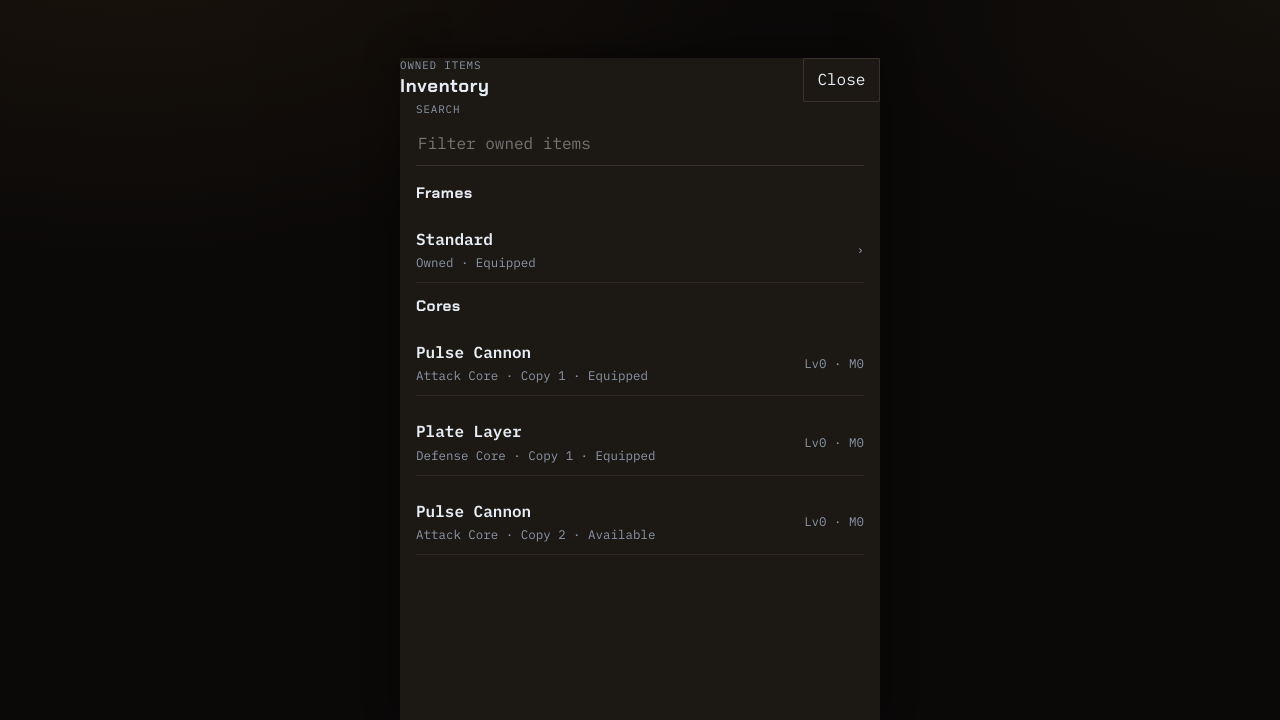
Test: Loadout and Inventory navigation › uses one overlay layer for Inventory inspection and restores the parent screen
What coordinates should you click on to do the following:
click the button "Pulse Cannon Attack Core · Copy 2 · Available Lv0 · M0"
I would click on:
 (474, 511)
Its box is [416,488,864,555].
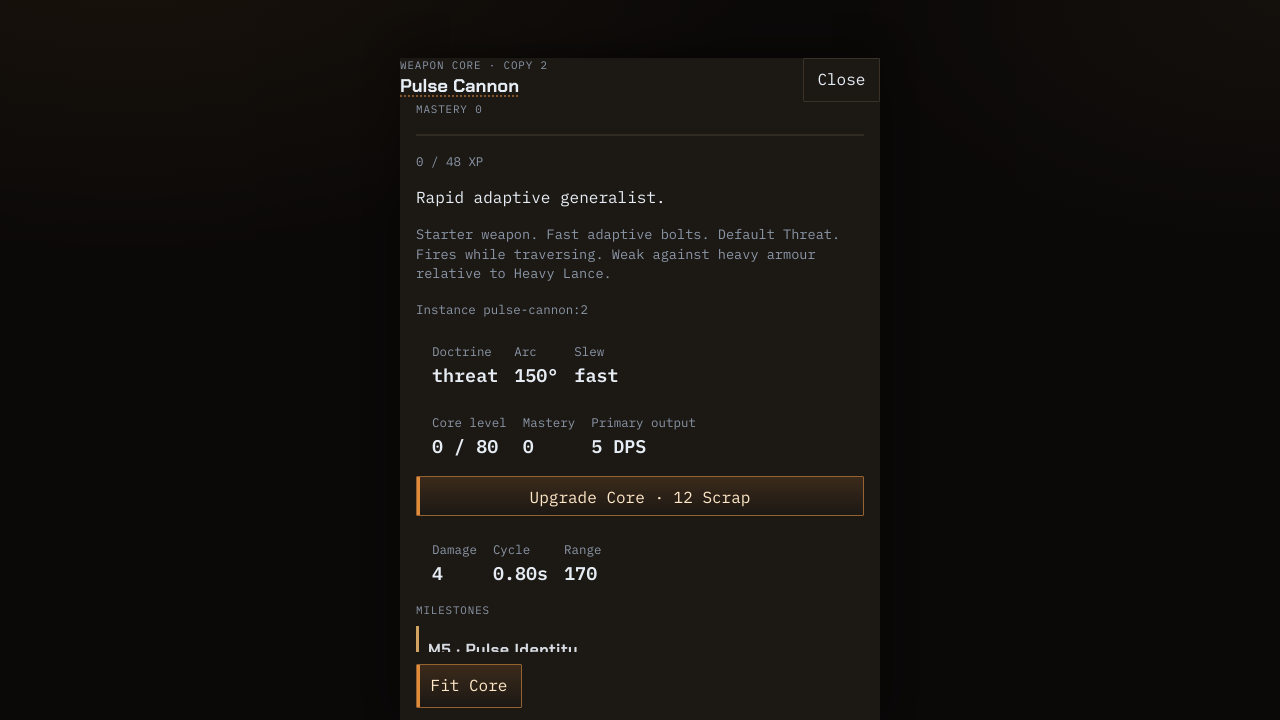
Expected: the number of dialogs is 1, [400,58,880,719]
Expected: the heading "Inventory" is gone
Expected: the button "Fit Core" is shown, [416,664,522,708]
What coordinates should you click on to do the following:
click the button "Close"
I would click on:
 (841, 80)
Its box is [803,58,880,102].
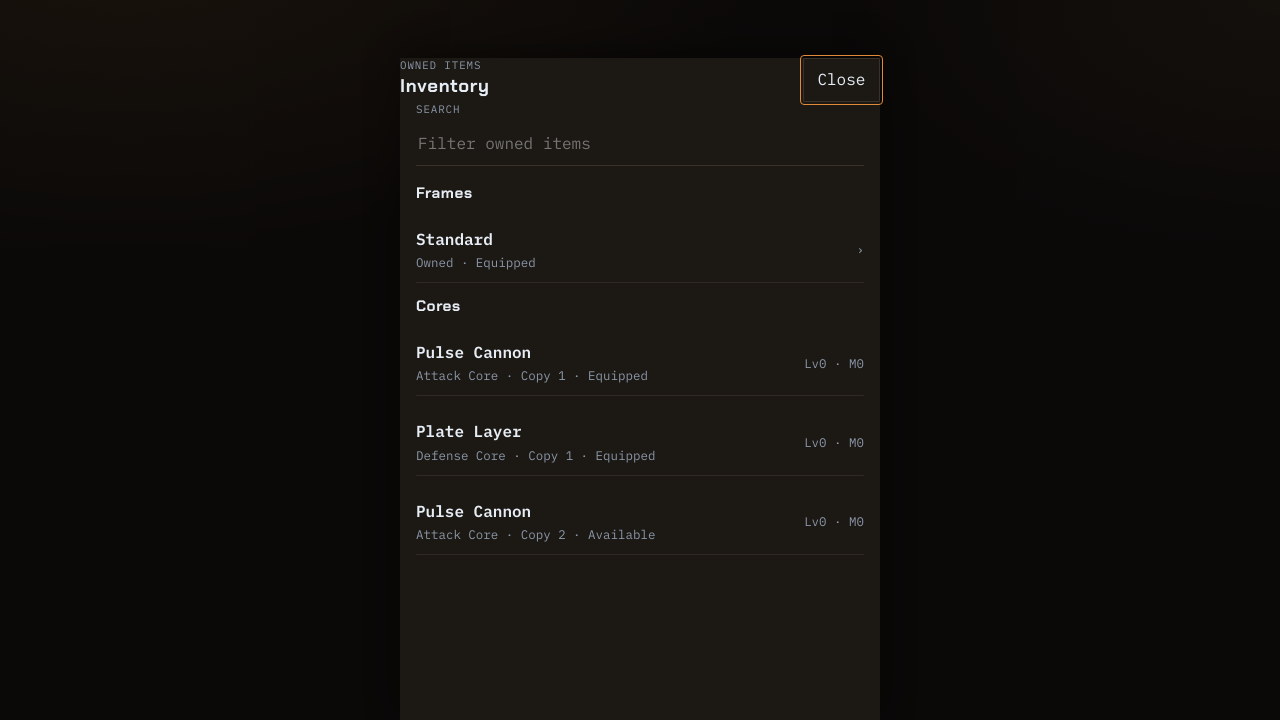
Expected: the dialog "Inventory" is shown, [400,58,880,719]
Expected: the text "Attack Core · Copy 2 · Available" is shown, [416,526,655,542]
